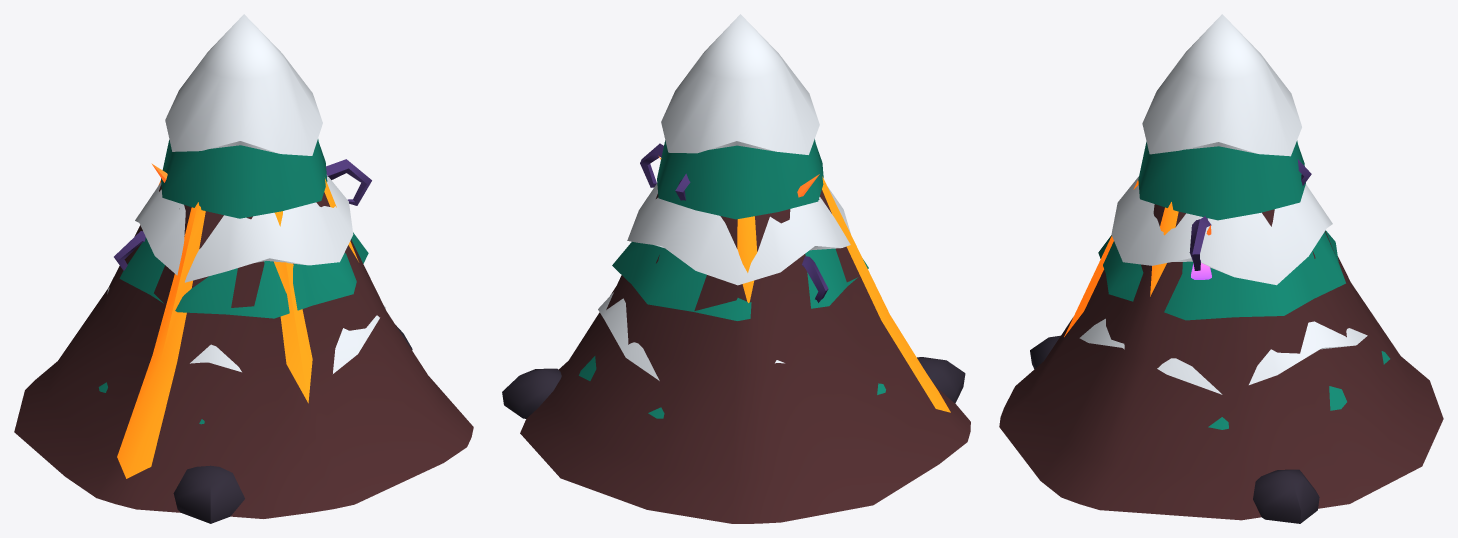
File: worlds-harsh.glb
3 views of the same model, side by side, from view 1: azimuth 30°, elevation 25°; view 2: azimuth 150°, elevation 25°; view 3: azimuth 270°, elevation 25° (orthographic).
Visible parts, largest first — view 1: mini_volcano, snow_pine, deadtree; view 2: mini_volcano, snow_pine, deadtree; view 3: mini_volcano, snow_pine, deadtree.
Part boxes in pixels (x1=…): mini_volcano: x1=14, y1=178, x2=473, y2=523; snow_pine: x1=98, y1=14, x2=385, y2=424; deadtree: x1=114, y1=159, x2=371, y2=270; mini_volcano: x1=502, y1=176, x2=970, y2=523; snow_pine: x1=579, y1=14, x2=885, y2=418; deadtree: x1=640, y1=143, x2=828, y2=302; mini_volcano: x1=999, y1=180, x2=1443, y2=523; snow_pine: x1=1079, y1=14, x2=1390, y2=429; deadtree: x1=1189, y1=159, x2=1311, y2=279.
Bounding box in the file's own units: 3.95 × 4 × 3.9.
